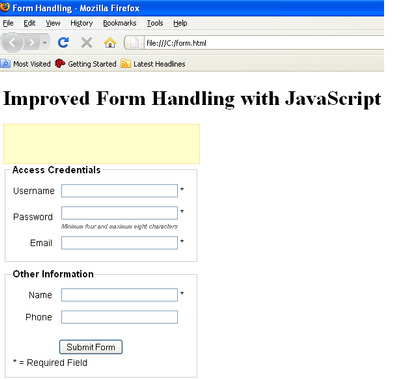_form_: (1, 121, 209, 380)
button: (58, 338, 124, 355)
field: (57, 204, 180, 223), (58, 309, 182, 326), (58, 287, 180, 304), (58, 183, 180, 199), (57, 235, 178, 251)
field_with_label: (13, 203, 180, 224), (25, 307, 183, 327), (27, 285, 182, 305), (12, 182, 181, 200), (30, 234, 180, 253)
